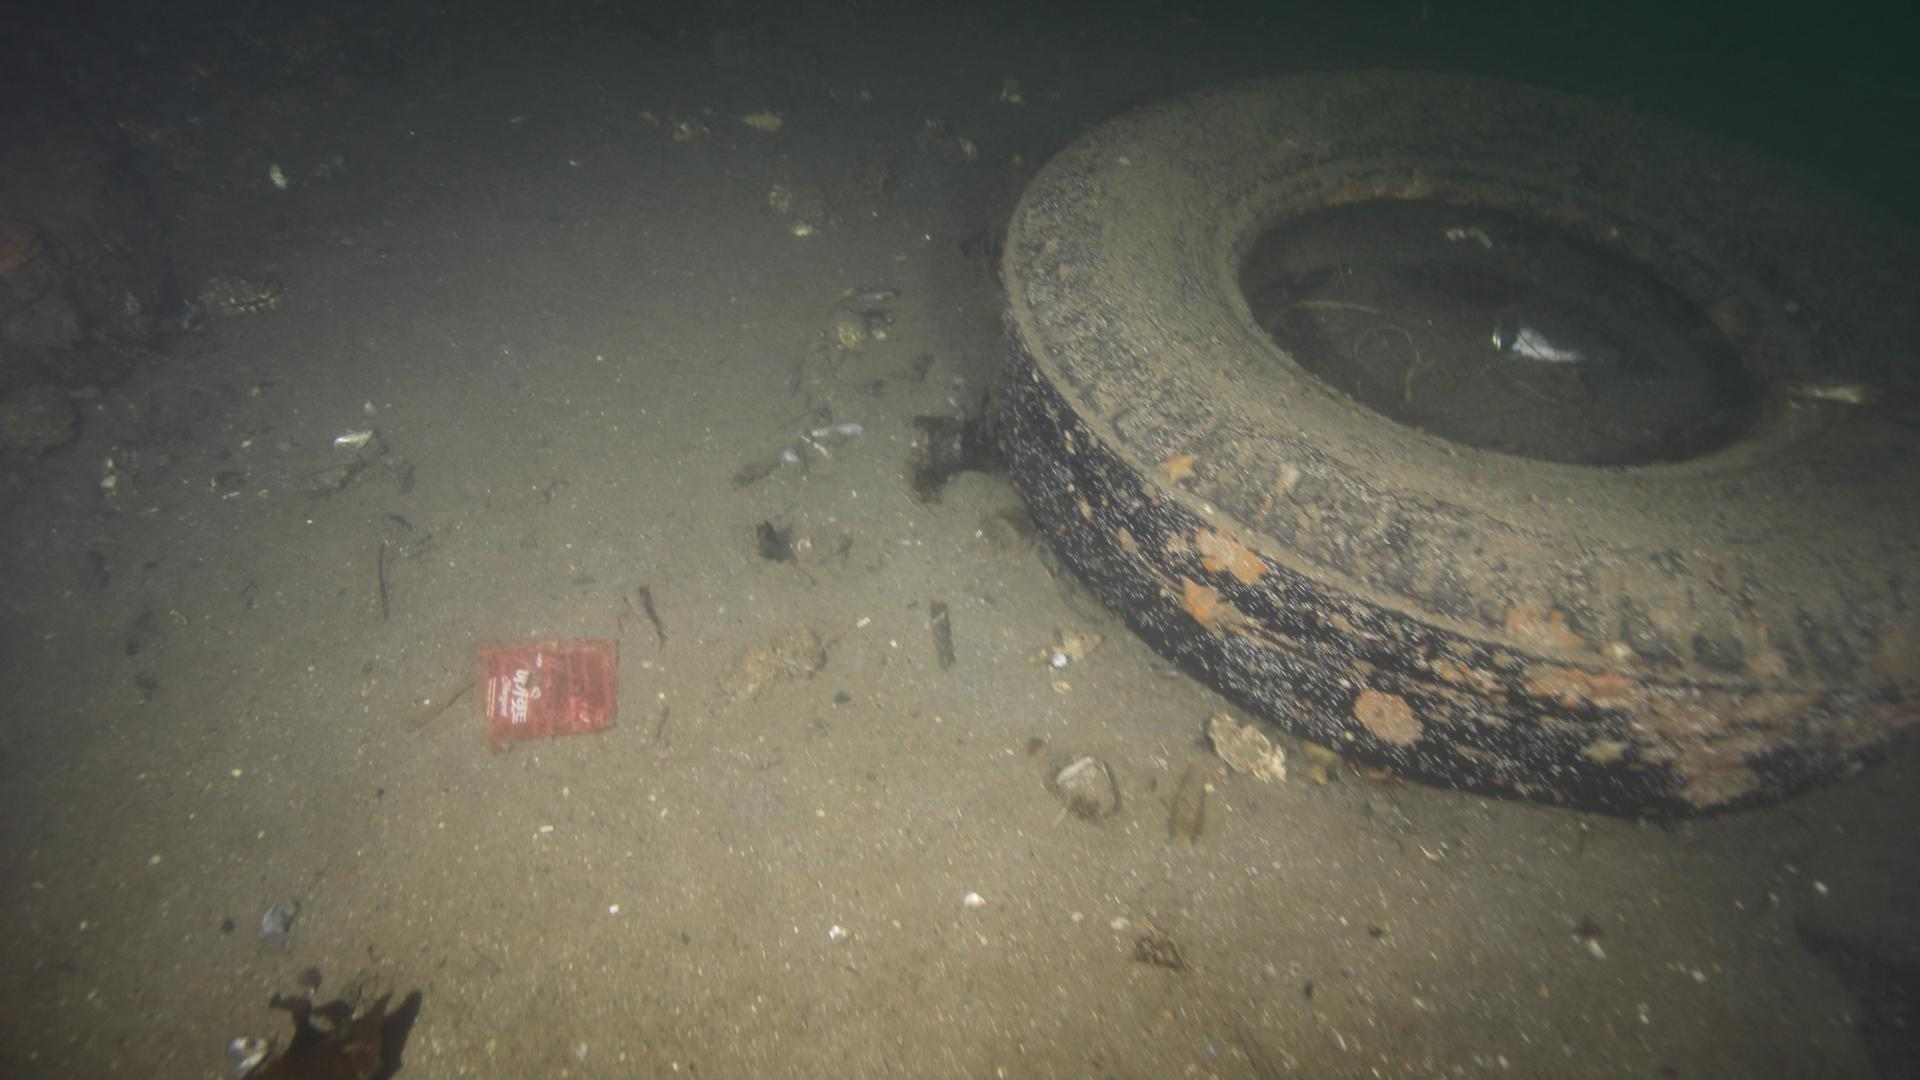tire: (986, 58, 1920, 814)
